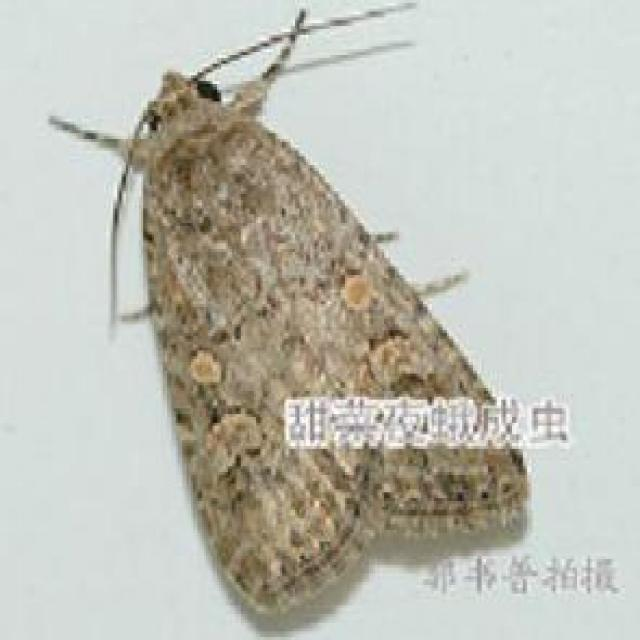BeetArmyWorm-Adult-: (53, 25, 552, 621)
